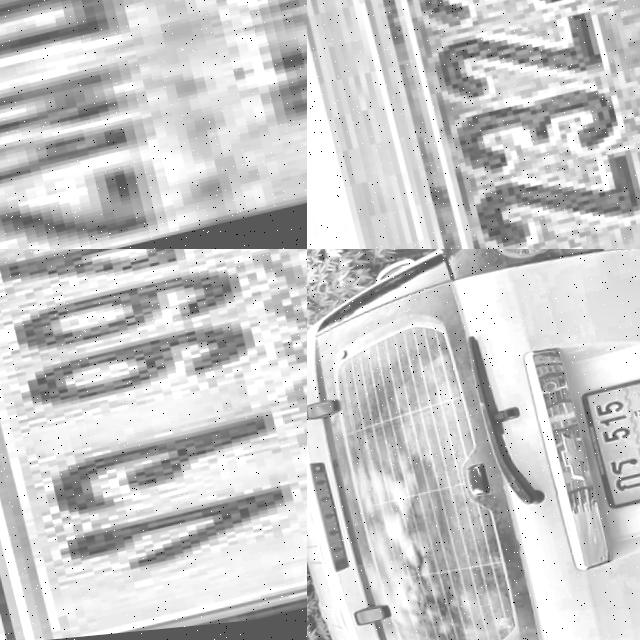license-plate: (0, 249, 307, 640), (323, 0, 640, 249), (0, 0, 307, 249), (571, 379, 640, 518)
